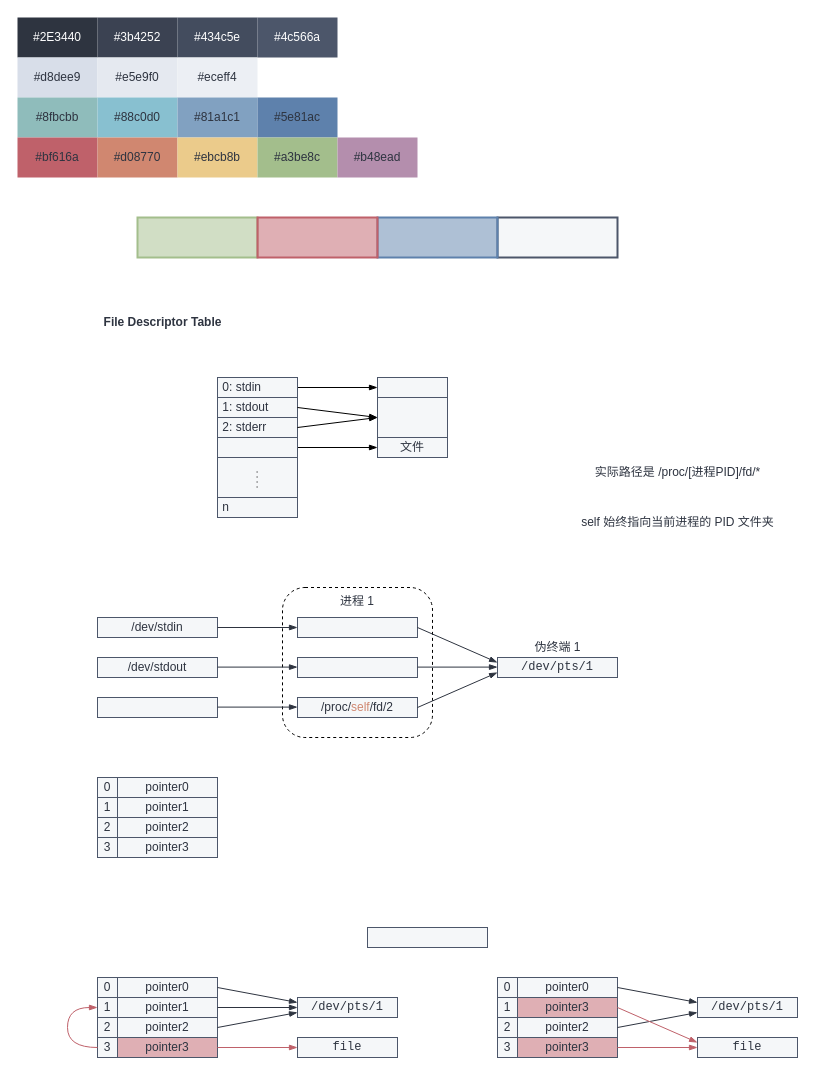
Image size: 815x1083. Some labels were removed from this diagram. The centre of each missing label's shape, as x and y in pixels:
/dev/stderr: the point at 157,707
/proc/ self /fd/0: the point at 357,627
/proc/ self /fd/1: the point at 357,667
3: file: the point at 257,447
command > file: the point at 427,937
终端屏幕: the point at 412,417
键盘: the point at 412,387
